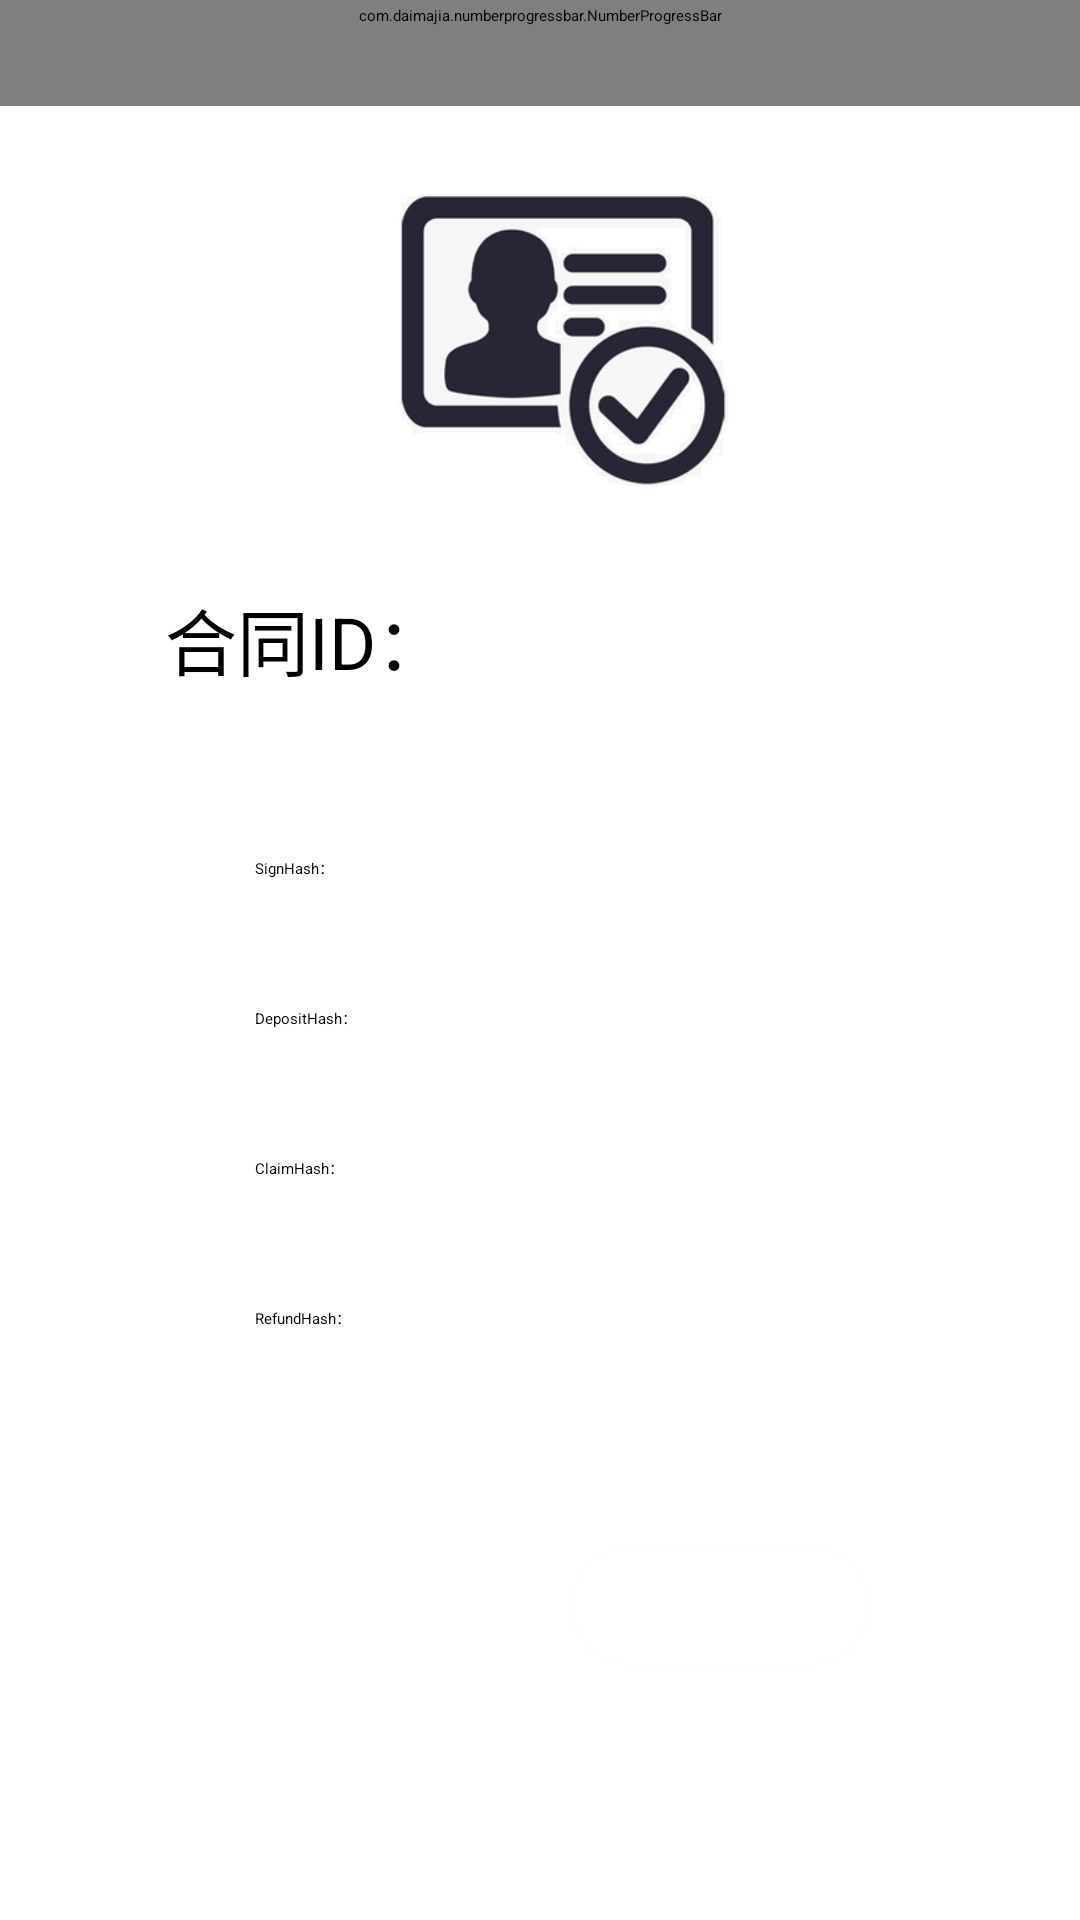

Icons on this 1080w x 1920h Android screen, each with its box as bbox=[x1, y1, x2, y2]:
verity: bbox=[401, 196, 726, 485]
